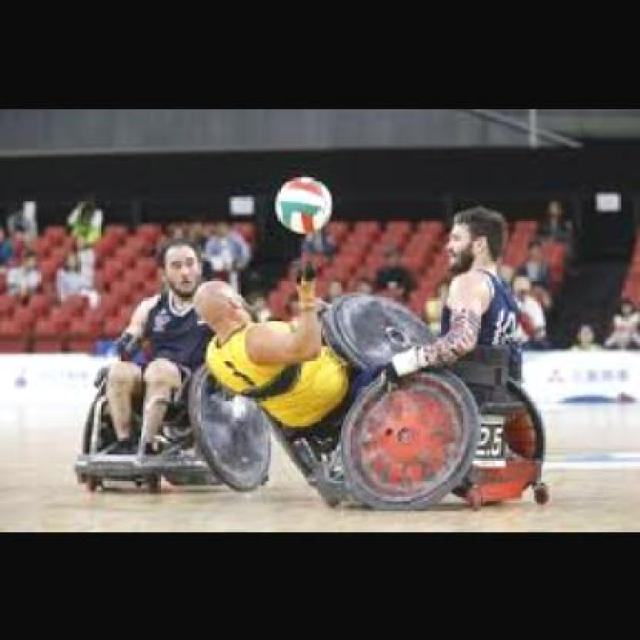wheelchairs: (351, 371, 555, 517), (72, 354, 274, 493), (302, 284, 438, 363)
